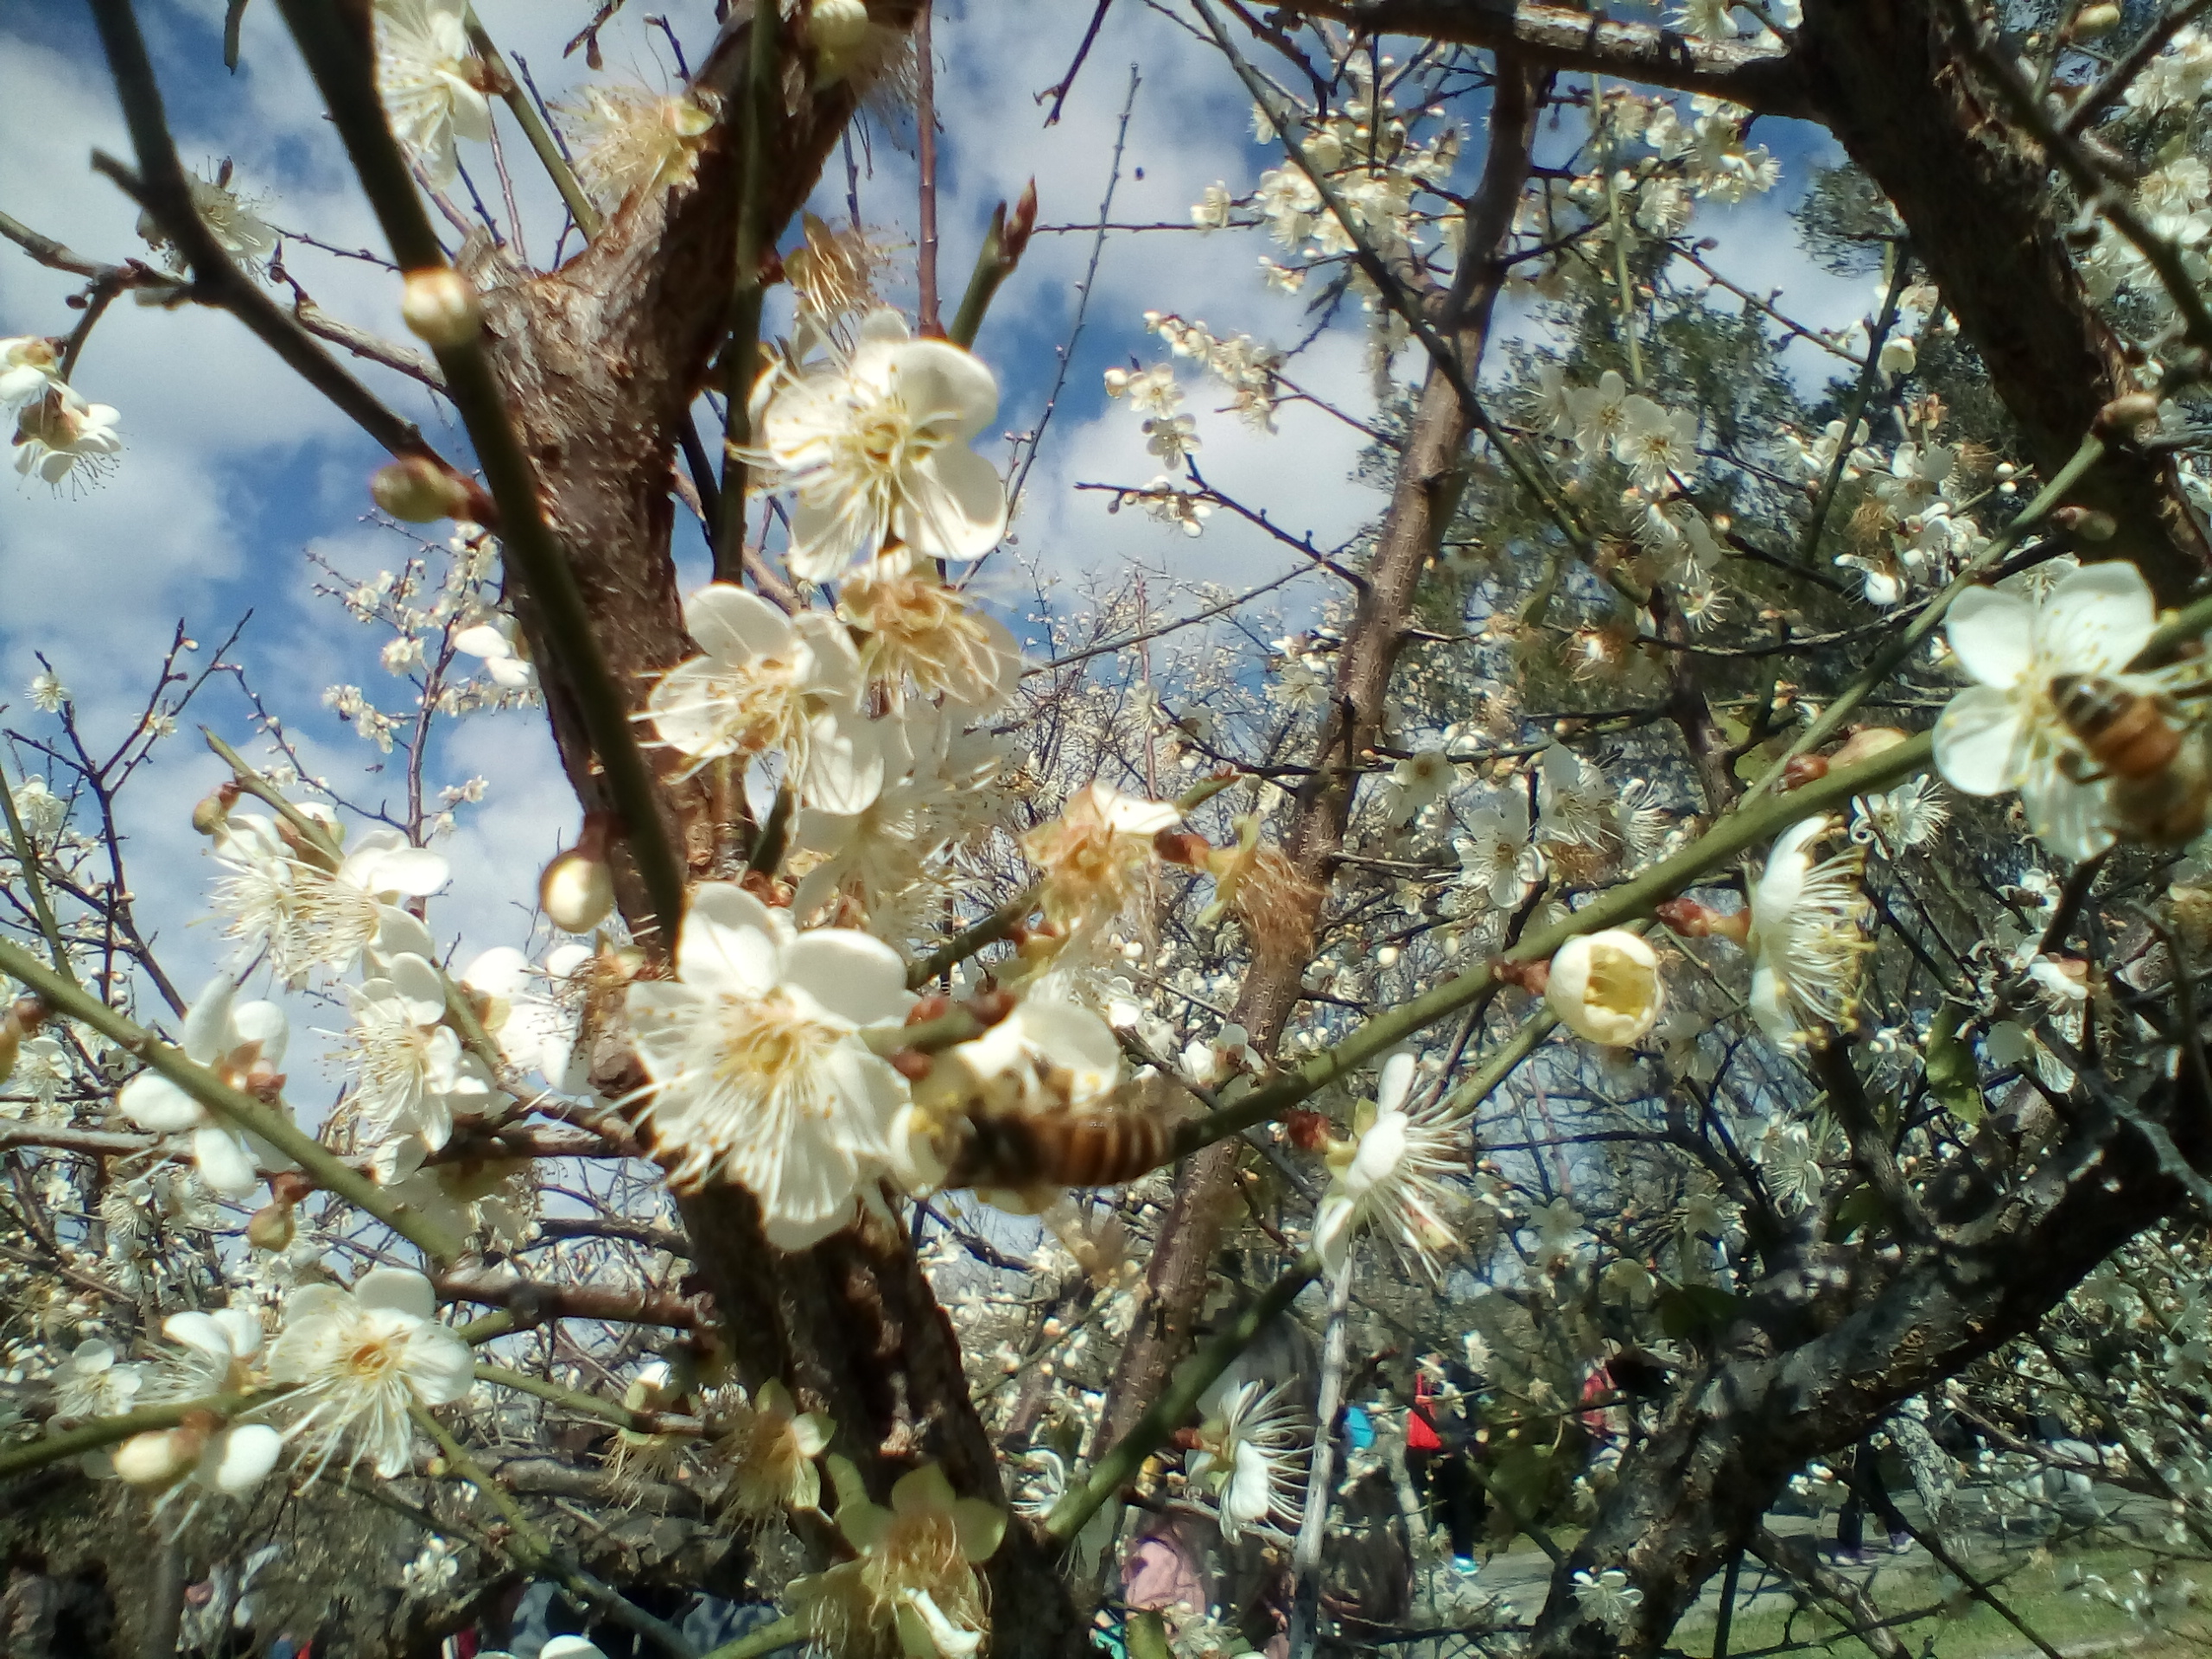maflower: (625, 322, 1055, 849), (540, 890, 1028, 1283)
